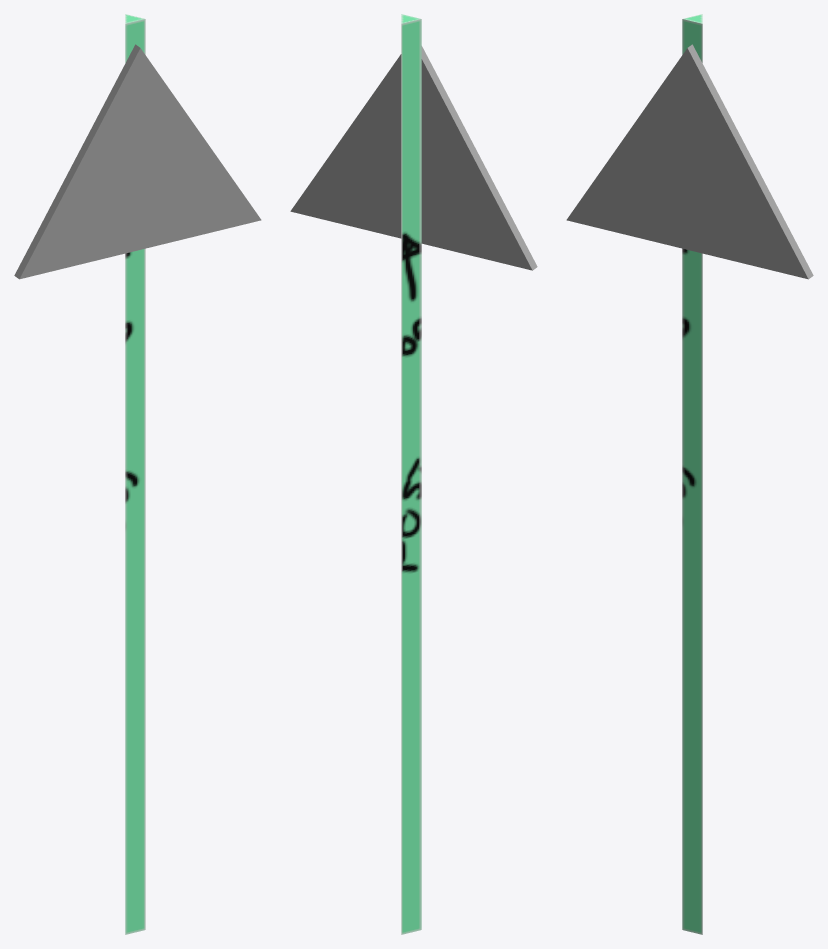
Rendered from env_streetSign_b.fbx.
The picture shows the model from 3 angles, left to right: view 1: azimuth 30°, elevation 25°; view 2: azimuth 150°, elevation 25°; view 3: azimuth 330°, elevation 25°; orthographic projection.
Visible parts, largest first — view 1: polySurface1; view 2: polySurface1; view 3: polySurface1.
Boxes of the visible parts, x1,y1,x2,y2 form: polySurface1: (14,14,261,934); polySurface1: (290,14,537,934); polySurface1: (566,14,813,934).
Size of the model in its own units: 11.14 by 40.02 by 1.22.
